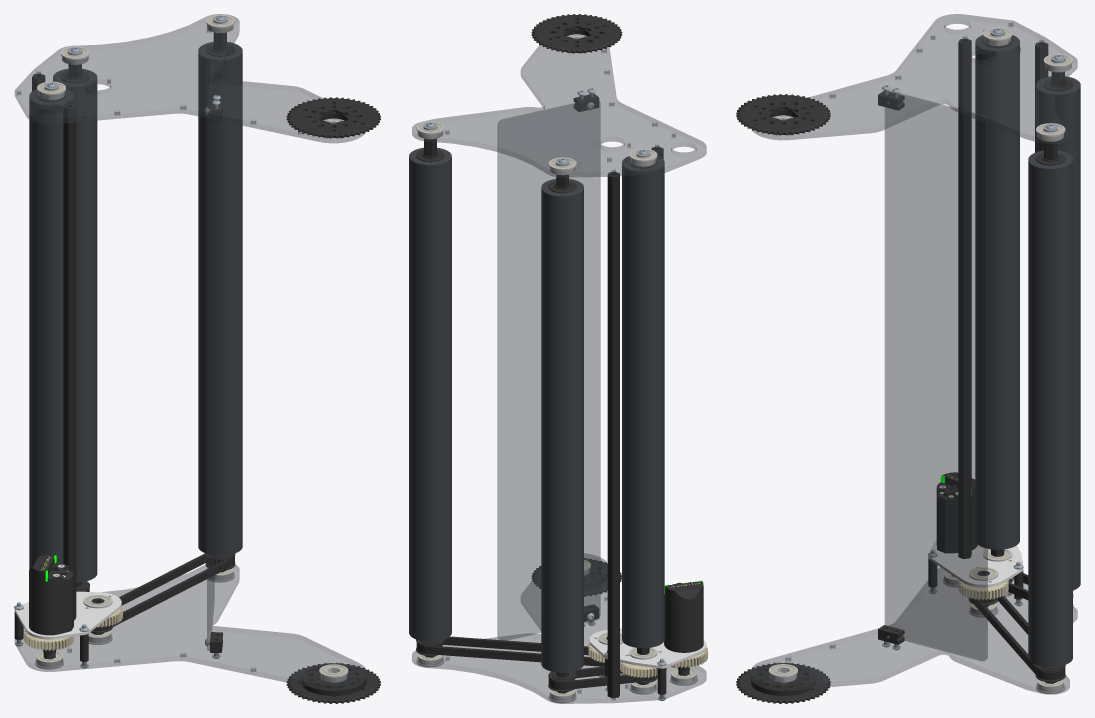
3 views of the same model, side by side, from view 1: azimuth 30°, elevation 25°; view 2: azimuth 150°, elevation 25°; view 3: azimuth 270°, elevation 25° (orthographic). The views are drawn at different scales.
Parts seen in each view (by area): view 1: Part 27.002, intake side plate 1, Part 27, intake side plate, Part 27.001, 1/2" Hex (23.776 in), intake bumper ramp, Kraken X44 Brushless Motor <1>, 48t Aluminum Sprocket (#25, SplineXL Bore).001, 100T 5M 9mm Wide Belt, reinforcment plate, sprocket spacer (+2 smaller); view 2: intake bumper ramp, Part 27.002, Part 27.001, Part 27, intake side plate 1, intake side plate, 1/2" Hex (25.16 in), Kraken X44 Brushless Motor <1>, 48t Aluminum Sprocket (#25, SplineXL Bore).001, 100T 5M 9mm Wide Belt, reinforcment plate, 55T 5M 9mm Wide Belt (+1 smaller); view 3: intake bumper ramp, Part 27.002, Part 27, intake side plate 1, intake side plate, 1/2" Hex (23.776 in), Part 27.001, 48t Aluminum Sprocket (#25, SplineXL Bore).001, Kraken X44 Brushless Motor <1>, reinforcment plate, 100T 5M 9mm Wide Belt, sprocket spacer (+2 smaller).
Part boxes in pixels (box(x1,y1,x2,y2)): Part 27.002: box(198, 42, 242, 555); intake side plate 1: box(15, 14, 365, 142); Part 27: box(29, 89, 73, 568); intake side plate: box(15, 565, 366, 690); Part 27.001: box(53, 68, 97, 582); 1/2" Hex (23.776 in): box(63, 103, 76, 620); intake bumper ramp: box(207, 62, 214, 650); Kraken X44 Brushless Motor <1>: box(29, 555, 73, 635); 48t Aluminum Sprocket (#25, SplineXL Bore).001: box(286, 97, 380, 138); 100T 5M 9mm Wide Belt: box(92, 553, 234, 631); reinforcment plate: box(14, 591, 121, 639); sprocket spacer: box(301, 663, 366, 695); intake bumper ramp: box(497, 99, 600, 640); Part 27.002: box(409, 147, 451, 641); Part 27.001: box(541, 179, 583, 672); Part 27: box(622, 156, 664, 648); intake side plate 1: box(412, 45, 706, 177); intake side plate: box(412, 553, 706, 703); 1/2" Hex (25.16 in): box(607, 172, 619, 698); Kraken X44 Brushless Motor <1>: box(664, 580, 703, 652); 48t Aluminum Sprocket (#25, SplineXL Bore).001: box(531, 14, 622, 53); 100T 5M 9mm Wide Belt: box(416, 636, 604, 666); reinforcment plate: box(589, 629, 706, 668); 55T 5M 9mm Wide Belt: box(548, 666, 656, 689); intake bumper ramp: box(885, 91, 987, 660); Part 27.002: box(1028, 150, 1072, 667); Part 27: box(975, 35, 1019, 549); intake side plate 1: box(751, 14, 1077, 143); intake side plate: box(751, 568, 1077, 694); 1/2" Hex (23.776 in): box(958, 38, 971, 558); Part 27.001: box(1036, 76, 1080, 590); 48t Aluminum Sprocket (#25, SplineXL Bore).001: box(736, 94, 830, 135); Kraken X44 Brushless Motor <1>: box(936, 472, 977, 553); reinforcment plate: box(928, 540, 1023, 587); 100T 5M 9mm Wide Belt: box(969, 595, 1065, 680); sprocket spacer: box(750, 663, 816, 695).
Size of the model in its own units: 0.321 by 0.6696 by 0.3662.
